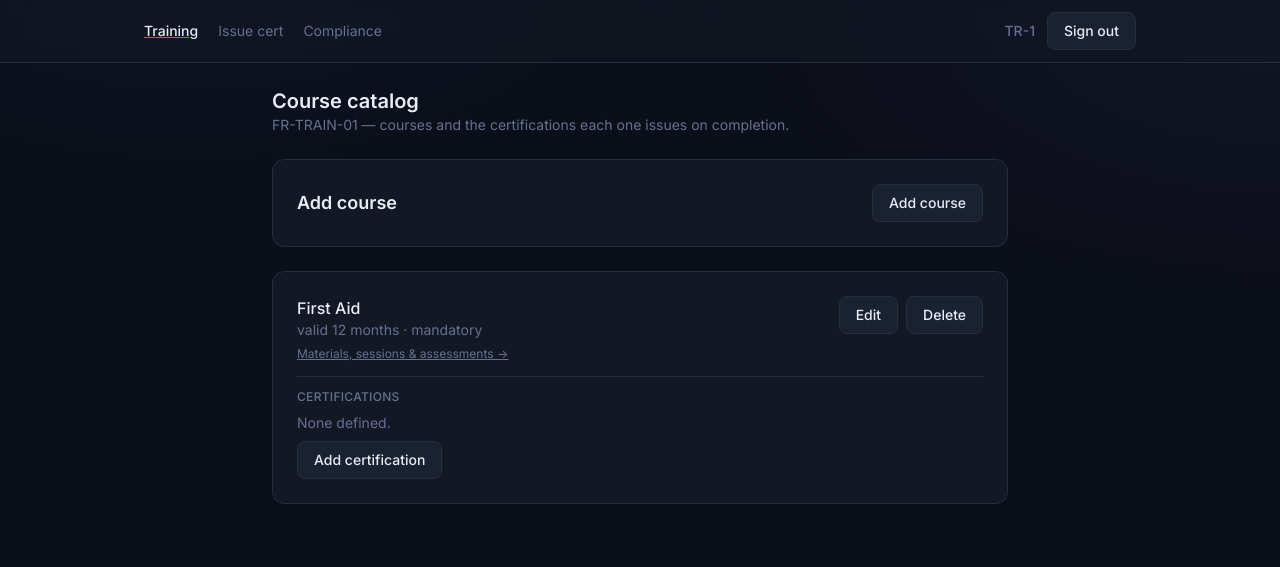
Test case: CourseCatalogPage › surfaces a 409 when deleting a course still referenced
Expected: the heading "First Aid" is shown, [297,298,360,318]
Click the button "Delete" at x=945, y=315, box [906,296,983,334]
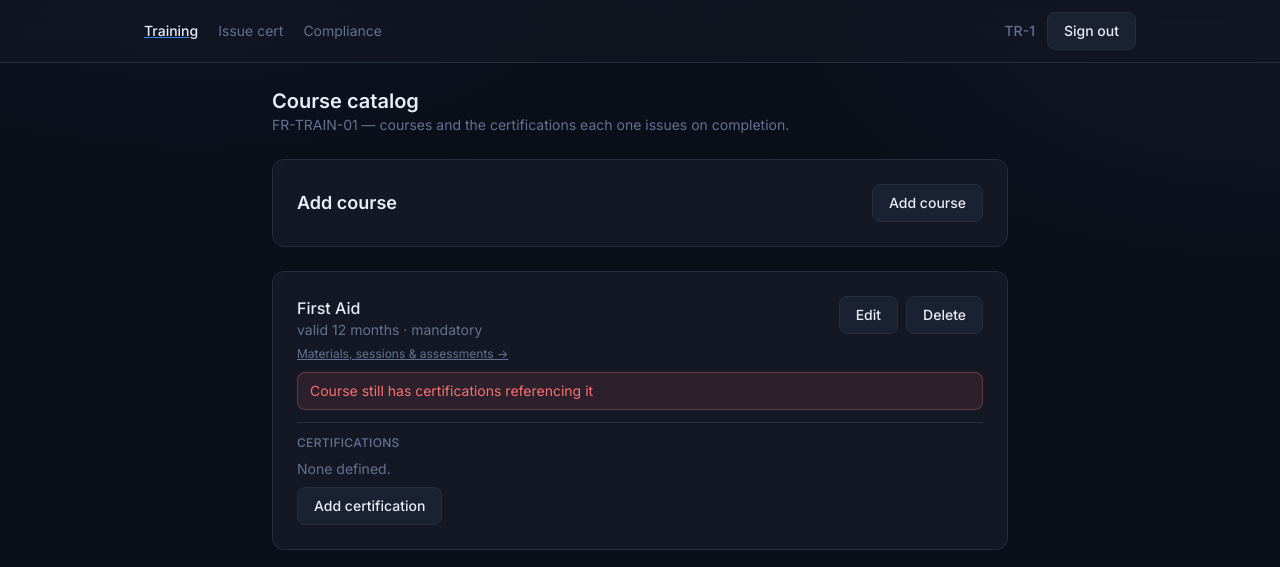
Expected: the text "Course still has certifications referencing it" is shown, [297,372,983,410]
